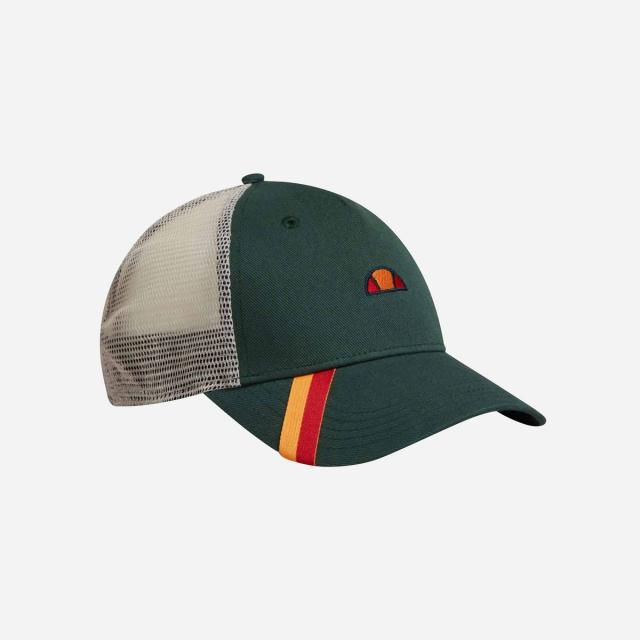Nonhelmet: (96, 170, 548, 469)
